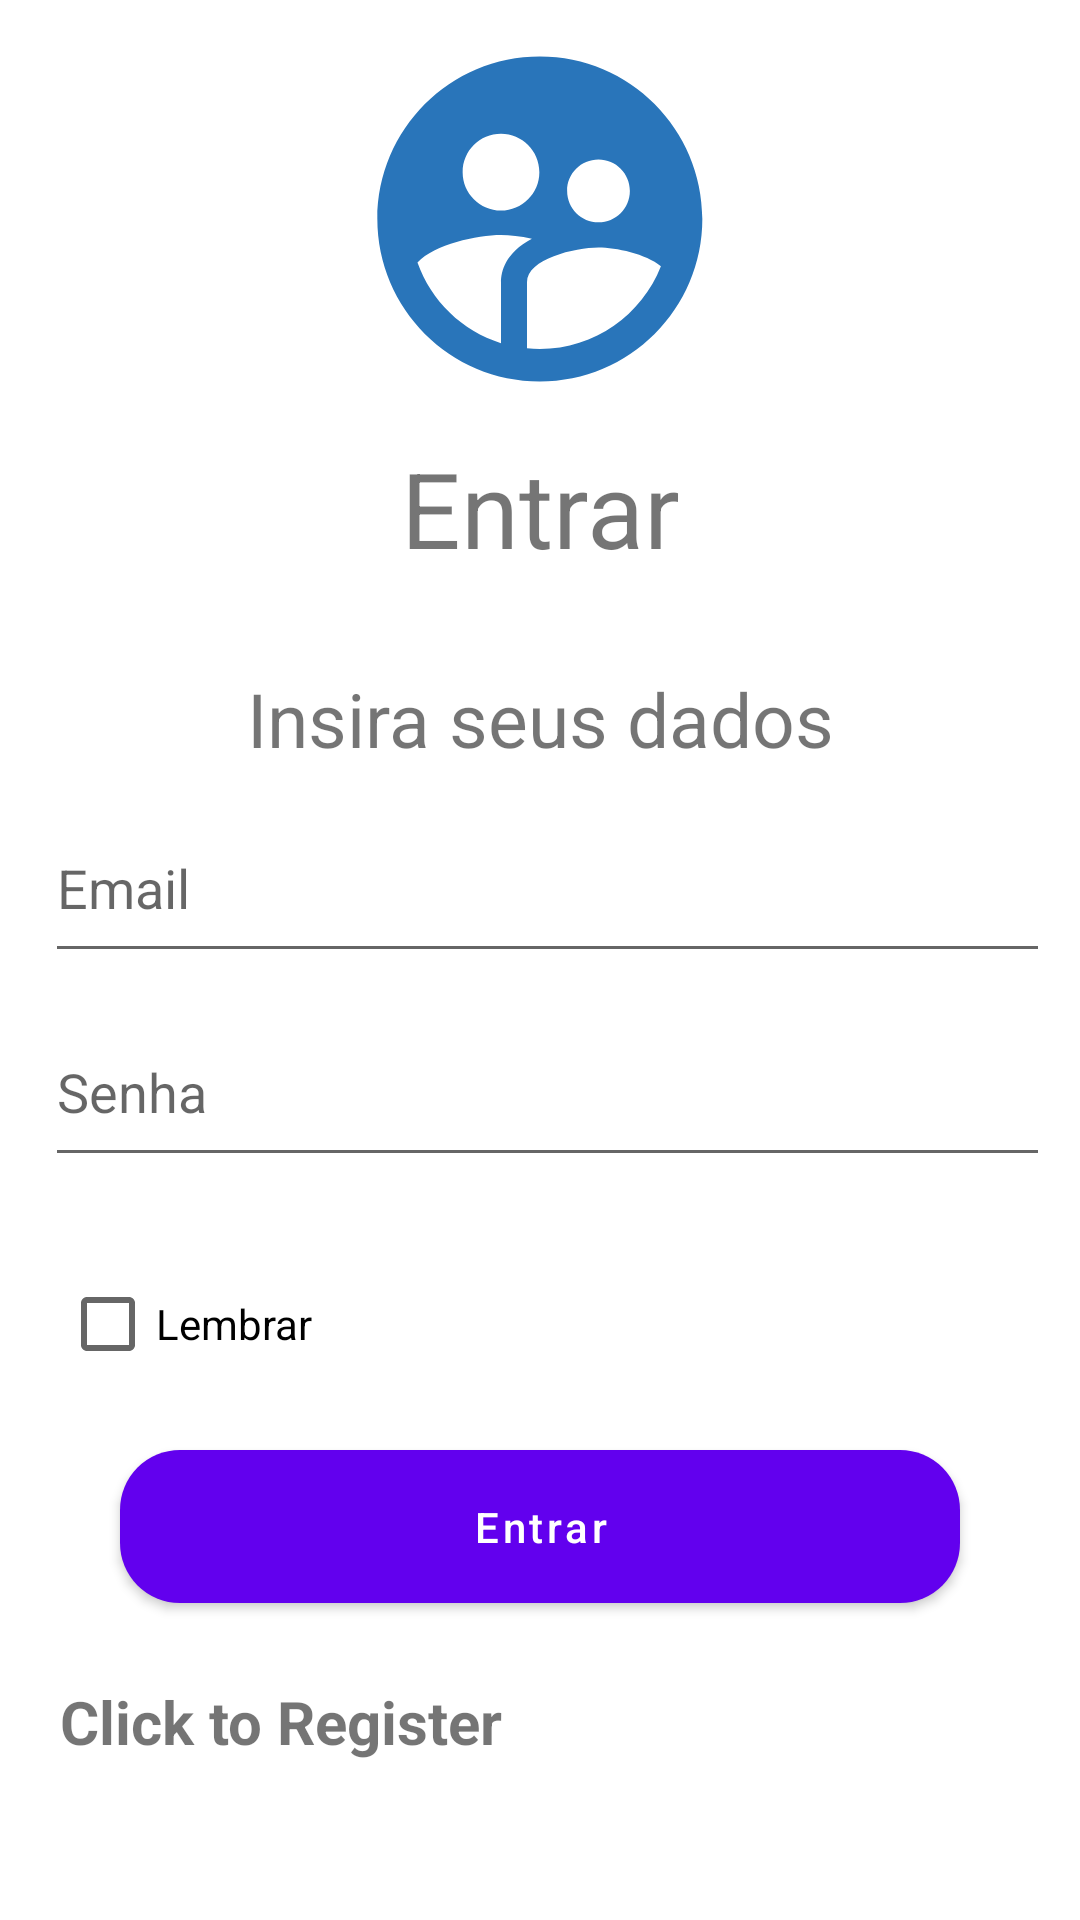

Where to tap for icons on this 1080*1920 app screen, as [x,y]:
supervised user circle: [540,219]
